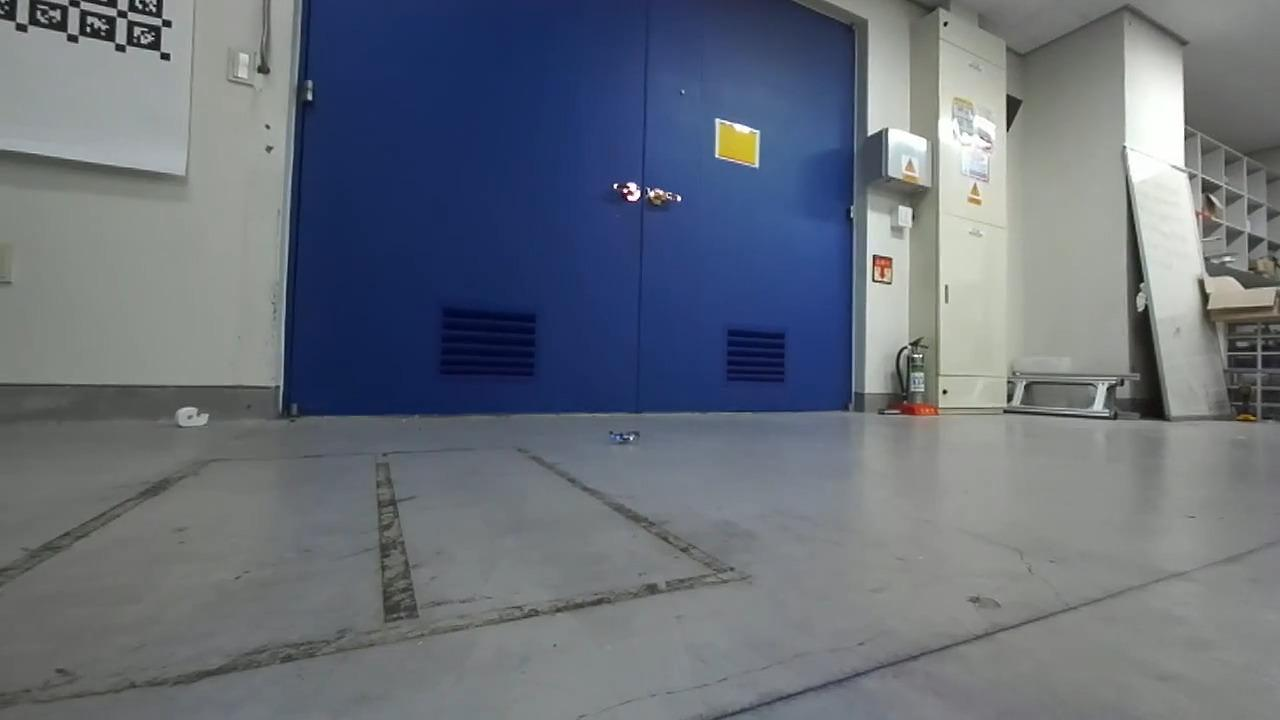crazyflie: (596, 421, 651, 451)
